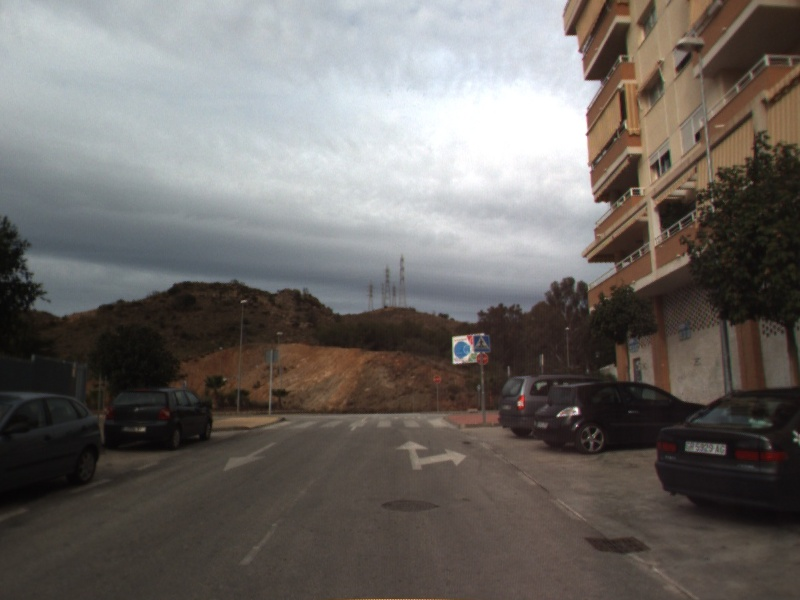STRAIGHT_RIGHT: (394, 438, 469, 472)
